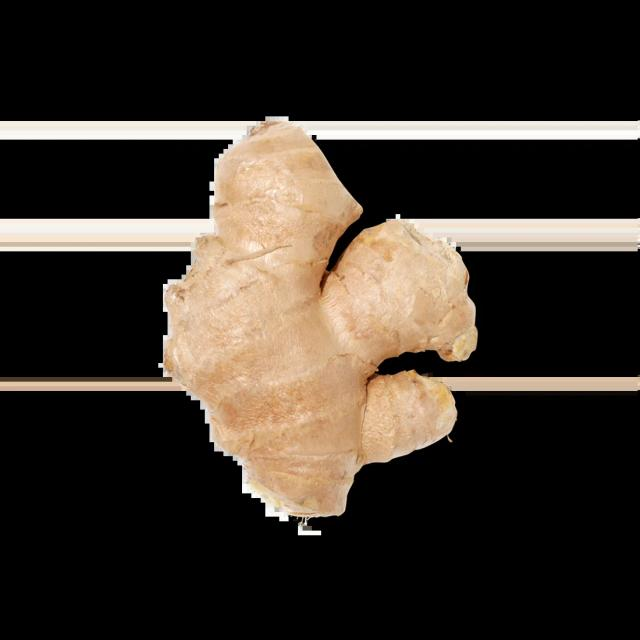ginger-root: (116, 103, 512, 547)
